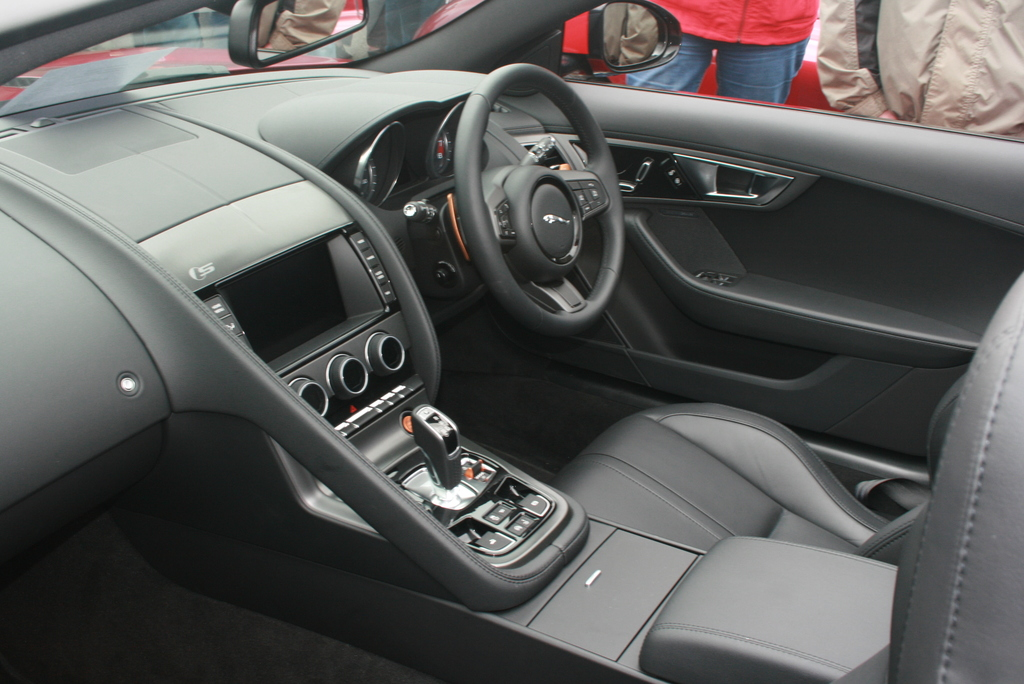Car: (0, 0, 1023, 683), (0, 0, 844, 112)
